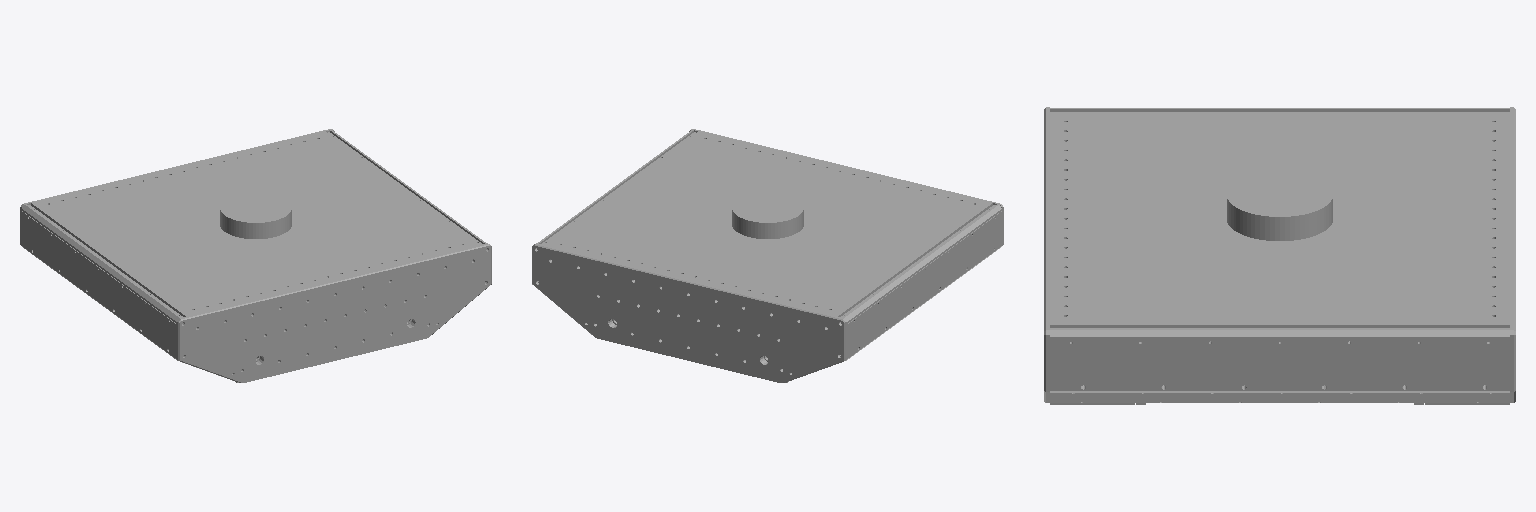
robot.urdf — mobile_robot10:
<?xml version="1.0" ?>
<!-- =================================================================================== -->
<!-- |    This document was autogenerated by xacro from mobile_robot10.xacro           | -->
<!-- |    EDITING THIS FILE BY HAND IS NOT RECOMMENDED                                 | -->
<!-- =================================================================================== -->
<robot name="mobile_robot10">
  <material name="silver">
    <color rgba="0.700 0.700 0.700 1.000"/>
  </material>
  <transmission name="revLB_tran">
    <type>transmission_interface/SimpleTransmission</type>
    <joint name="revLB">
      <hardwareInterface>hardware_interface/EffortJointInterface</hardwareInterface>
    </joint>
    <actuator name="revLB_actr">
      <hardwareInterface>hardware_interface/EffortJointInterface</hardwareInterface>
      <mechanicalReduction>1</mechanicalReduction>
    </actuator>
  </transmission>
  <transmission name="revLF_tran">
    <type>transmission_interface/SimpleTransmission</type>
    <joint name="revLF">
      <hardwareInterface>hardware_interface/EffortJointInterface</hardwareInterface>
    </joint>
    <actuator name="revLF_actr">
      <hardwareInterface>hardware_interface/EffortJointInterface</hardwareInterface>
      <mechanicalReduction>1</mechanicalReduction>
    </actuator>
  </transmission>
  <transmission name="revRF_tran">
    <type>transmission_interface/SimpleTransmission</type>
    <joint name="revRF">
      <hardwareInterface>hardware_interface/EffortJointInterface</hardwareInterface>
    </joint>
    <actuator name="revRF_actr">
      <hardwareInterface>hardware_interface/EffortJointInterface</hardwareInterface>
      <mechanicalReduction>1</mechanicalReduction>
    </actuator>
  </transmission>
  <transmission name="revRB_tran">
    <type>transmission_interface/SimpleTransmission</type>
    <joint name="revRB">
      <hardwareInterface>hardware_interface/EffortJointInterface</hardwareInterface>
    </joint>
    <actuator name="revRB_actr">
      <hardwareInterface>hardware_interface/EffortJointInterface</hardwareInterface>
      <mechanicalReduction>1</mechanicalReduction>
    </actuator>
  </transmission>

<gazebo>
...

</gazebo>
  
  <gazebo reference="lidar_1">
    <sensor name="head_hokuyo_sensor" type="ray">
      <pose>0 0 0 0 0 0</pose>
      <visualize>false</visualize>
      <update_rate>20</update_rate>
      <ray>
        <scan>
          <horizontal>
            <samples>720</samples>
            <resolution>1</resolution>
            <min_angle>-3.14</min_angle>
            <max_angle>3.14</max_angle>
          </horizontal>
        </scan>
        <range>
          <min>0.50</min>
          <max>20.0</max>
          <resolution>0.01</resolution>
        </range>
        <noise>
          <type>gaussian</type>
          <!-- Noise parameters based on published spec for Hokuyo laser
               achieving "+-30mm" accuracy at range < 10m.  A mean of 0.0m and
               stddev of 0.01m will put 99.7% of samples within 0.03m of the true
               reading. -->
          <mean>0.0</mean>
          <stddev>0.01</stddev>
        </noise>
      </ray>
      <plugin filename="libgazebo_ros_laser.so" name="gazebo_ros_head_hokuyo_controller">
        <topicName>/rrbot/laser/scan</topicName>
        <frameName>lidar_1</frameName>
      </plugin>
    </sensor>
  </gazebo>
  <gazebo>
    <plugin filename="libgazebo_ros_control.so" name="control"/>
  </gazebo>
  <gazebo reference="base_link">
    <material>Gazebo/Silver</material>
    <mu1>0.2</mu1>
    <mu2>0.2</mu2>
    <selfCollide>true</selfCollide>
    <gravity>true</gravity>
  </gazebo>
  <gazebo reference="motor_RightBack_1">
    <material>Gazebo/Silver</material>
    <mu1>0.2</mu1>
    <mu2>0.2</mu2>
    <selfCollide>true</selfCollide>
  </gazebo>
  <gazebo reference="motor_RightFront_1">
    <material>Gazebo/Silver</material>
    <mu1>0.2</mu1>
    <mu2>0.2</mu2>
    <selfCollide>true</selfCollide>
  </gazebo>
  <gazebo reference="motor_LeftFront_1">
    <material>Gazebo/Silver</material>
    <mu1>0.2</mu1>
    <mu2>0.2</mu2>
    <selfCollide>true</selfCollide>
  </gazebo>
  <gazebo reference="motor_LeftBack_1">
    <material>Gazebo/Silver</material>
    <mu1>0.2</mu1>
    <mu2>0.2</mu2>
    <selfCollide>true</selfCollide>
  </gazebo>
  <gazebo reference="wheel_LeftBack_1">
    <material>Gazebo/Silver</material>
    <mu1>0.2</mu1>
    <mu2>0.2</mu2>
    <selfCollide>true</selfCollide>
  </gazebo>
  <gazebo reference="wheel_LeftFront_1">
    <material>Gazebo/Silver</material>
    <mu1>0.2</mu1>
    <mu2>0.2</mu2>
    <selfCollide>true</selfCollide>
  </gazebo>
  <gazebo reference="wheel_RightFront_1">
    <material>Gazebo/Silver</material>
    <mu1>0.2</mu1>
    <mu2>0.2</mu2>
    <selfCollide>true</selfCollide>
  </gazebo>
  <gazebo reference="wheel_RightBack_1">
    <material>Gazebo/Silver</material>
    <mu1>0.2</mu1>
    <mu2>0.2</mu2>
    <selfCollide>true</selfCollide>
  </gazebo>
  <gazebo reference="lidar_1">
    <material>Gazebo/Silver</material>
    <mu1>0.2</mu1>
    <mu2>0.2</mu2>
    <selfCollide>true</selfCollide>
  </gazebo>
  <link name="base_link">
    <inertial>
      <origin rpy="0 0 0" xyz="0.0020658010069307346 0.0014540542329803576 0.13278563199845814"/>
      <mass value="4.254378190431725"/>
      <inertia ixx="0.111017" ixy="5e-06" ixz="-2e-06" iyy="0.100165" iyz="-0.0" izz="0.193805"/>
    </inertial>
    <visual>
      <origin rpy="0 0 0" xyz="0 0 0"/>
      <geometry>
        <mesh filename="package://mobile_robot10_description/meshes/base_link.stl" scale="0.001 0.001 0.001"/>
      </geometry>
      <material name="silver"/>
    </visual>
    <collision>
      <origin rpy="0 0 0" xyz="0 0 0"/>
      <geometry>
        <mesh filename="package://mobile_robot10_description/meshes/base_link.stl" scale="0.001 0.001 0.001"/>
      </geometry>
    </collision>
  </link>
  <link name="motor_RightBack_1">
    <inertial>
      <origin rpy="0 0 0" xyz="2.3547808934085146e-05 0.03723394965455805 -6.253738071324011e-06"/>
      <mass value="0.24966798972825235"/>
      <inertia ixx="0.000251" ixy="0.0" ixz="-0.0" iyy="0.000108" iyz="-0.0" izz="0.000251"/>
    </inertial>
    <visual>
      <origin rpy="0 0 0" xyz="0.118927 0.124046 -0.090327"/>
      <geometry>
        <mesh filename="package://mobile_robot10_description/meshes/motor_RightBack_1.stl" scale="0.001 0.001 0.001"/>
      </geometry>
      <material name="silver"/>
    </visual>
    <collision>
      <origin rpy="0 0 0" xyz="0.118927 0.124046 -0.090327"/>
      <geometry>
        <mesh filename="package://mobile_robot10_description/meshes/motor_RightBack_1.stl" scale="0.001 0.001 0.001"/>
      </geometry>
    </collision>
  </link>
  <link name="motor_RightFront_1">
    <inertial>
      <origin rpy="0 0 0" xyz="2.3547808934029635e-05 0.03723394965455806 -6.253738070879922e-06"/>
      <mass value="0.24966798972825235"/>
      <inertia ixx="0.000251" ixy="0.0" ixz="-0.0" iyy="0.000108" iyz="-0.0" izz="0.000251"/>
    </inertial>
    <visual>
      <origin rpy="0 0 0" xyz="-0.123073 0.124046 -0.090327"/>
      <geometry>
        <mesh filename="package://mobile_robot10_description/meshes/motor_RightFront_1.stl" scale="0.001 0.001 0.001"/>
      </geometry>
      <material name="silver"/>
    </visual>
    <collision>
      <origin rpy="0 0 0" xyz="-0.123073 0.124046 -0.090327"/>
      <geometry>
        <mesh filename="package://mobile_robot10_description/meshes/motor_RightFront_1.stl" scale="0.001 0.001 0.001"/>
      </geometry>
    </collision>
  </link>
  <link name="motor_LeftFront_1">
    <inertial>
      <origin rpy="0 0 0" xyz="2.354780893325248e-05 -0.03723384118858371 5.98091283564306e-06"/>
      <mass value="0.24966798972825235"/>
      <inertia ixx="0.000251" ixy="-0.0" ixz="0.0" iyy="0.000108" iyz="-0.0" izz="0.000251"/>
    </inertial>
    <visual>
      <origin rpy="0 0 0" xyz="-0.123073 -0.126954 -0.090327"/>
      <geometry>
        <mesh filename="package://mobile_robot10_description/meshes/motor_LeftFront_1.stl" scale="0.001 0.001 0.001"/>
      </geometry>
      <material name="silver"/>
    </visual>
    <collision>
      <origin rpy="0 0 0" xyz="-0.123073 -0.126954 -0.090327"/>
      <geometry>
        <mesh filename="package://mobile_robot10_description/meshes/motor_LeftFront_1.stl" scale="0.001 0.001 0.001"/>
      </geometry>
    </collision>
  </link>
  <link name="motor_LeftBack_1">
    <inertial>
      <origin rpy="0 0 0" xyz="2.354780893312758e-05 -0.03723384118858267 5.980912835740204e-06"/>
      <mass value="0.24966798972825235"/>
      <inertia ixx="0.000251" ixy="-0.0" ixz="0.0" iyy="0.000108" iyz="-0.0" izz="0.000251"/>
    </inertial>
    <visual>
      <origin rpy="0 0 0" xyz="0.118927 -0.126954 -0.090327"/>
      <geometry>
        <mesh filename="package://mobile_robot10_description/meshes/motor_LeftBack_1.stl" scale="0.001 0.001 0.001"/>
      </geometry>
      <material name="silver"/>
    </visual>
    <collision>
      <origin rpy="0 0 0" xyz="0.118927 -0.126954 -0.090327"/>
      <geometry>
        <mesh filename="package://mobile_robot10_description/meshes/motor_LeftBack_1.stl" scale="0.001 0.001 0.001"/>
      </geometry>
    </collision>
  </link>
  <link name="wheel_LeftBack_1">
    <inertial>
      <origin rpy="0 0 0" xyz="-0.0002211856349259439 0.09160029831890285 0.00011976017282845641"/>
      <mass value="0.23076924157480921"/>
      <inertia ixx="0.000435" ixy="1e-06" ixz="0.0" iyy="0.000747" iyz="-1e-06" izz="0.000435"/>
    </inertial>
    <visual>
      <origin rpy="0 0 0" xyz="0.118915 -0.169604 -0.090327"/>
      <geometry>
        <mesh filename="package://mobile_robot10_description/meshes/wheel_LeftBack_1.stl" scale="0.001 0.001 0.001"/>
      </geometry>
      <material name="silver"/>
    </visual>
    <collision>
      <origin rpy="0 0 0" xyz="0.118915 -0.169604 -0.090327"/>
      <geometry>
        <mesh filename="package://mobile_robot10_description/meshes/wheel_LeftBack_1.stl" scale="0.001 0.001 0.001"/>
      </geometry>
    </collision>
  </link>
  <link name="wheel_LeftFront_1">
    <inertial>
      <origin rpy="0 0 0" xyz="-5.743380377766505e-05 0.09191036254399113 0.00012495117271071887"/>
      <mass value="0.2305439882563863"/>
      <inertia ixx="0.000437" ixy="0.0" ixz="0.0" iyy="0.000748" iyz="-1e-06" izz="0.000437"/>
    </inertial>
    <visual>
      <origin rpy="0 0 0" xyz="-0.123073 -0.169604 -0.090327"/>
      <geometry>
        <mesh filename="package://mobile_robot10_description/meshes/wheel_LeftFront_1.stl" scale="0.001 0.001 0.001"/>
      </geometry>
      <material name="silver"/>
    </visual>
    <collision>
      <origin rpy="0 0 0" xyz="-0.123073 -0.169604 -0.090327"/>
      <geometry>
        <mesh filename="package://mobile_robot10_description/meshes/wheel_LeftFront_1.stl" scale="0.001 0.001 0.001"/>
      </geometry>
    </collision>
  </link>
  <link name="wheel_RightFront_1">
    <inertial>
      <origin rpy="0 0 0" xyz="-0.00022118563492501409 -0.09160018985292717 -0.00012003299806354062"/>
      <mass value="0.23076924157480921"/>
      <inertia ixx="0.000435" ixy="-1e-06" ixz="-0.0" iyy="0.000747" iyz="-1e-06" izz="0.000435"/>
    </inertial>
    <visual>
      <origin rpy="0 0 0" xyz="-0.123085 0.166696 -0.090327"/>
      <geometry>
        <mesh filename="package://mobile_robot10_description/meshes/wheel_RightFront_1.stl" scale="0.001 0.001 0.001"/>
      </geometry>
      <material name="silver"/>
    </visual>
    <collision>
      <origin rpy="0 0 0" xyz="-0.123085 0.166696 -0.090327"/>
      <geometry>
        <mesh filename="package://mobile_robot10_description/meshes/wheel_RightFront_1.stl" scale="0.001 0.001 0.001"/>
      </geometry>
    </collision>
  </link>
  <link name="wheel_RightBack_1">
    <inertial>
      <origin rpy="0 0 0" xyz="-5.719253608364727e-05 -0.09191025407801684 -0.0001251999899373052"/>
      <mass value="0.2305439882563863"/>
      <inertia ixx="0.000437" ixy="-0.0" ixz="-0.0" iyy="0.000748" iyz="-1e-06" izz="0.000437"/>
    </inertial>
    <visual>
      <origin rpy="0 0 0" xyz="0.118915 0.166696 -0.090327"/>
      <geometry>
        <mesh filename="package://mobile_robot10_description/meshes/wheel_RightBack_1.stl" scale="0.001 0.001 0.001"/>
      </geometry>
      <material name="silver"/>
    </visual>
    <collision>
      <origin rpy="0 0 0" xyz="0.118915 0.166696 -0.090327"/>
      <geometry>
        <mesh filename="package://mobile_robot10_description/meshes/wheel_RightBack_1.stl" scale="0.001 0.001 0.001"/>
      </geometry>
    </collision>
  </link>
  <link name="lidar_1">
    <inertial>
      <origin rpy="0 0 0" xyz="1.9045593262516022e-07 5.4232985110353946e-08 0.012499863587381699"/>
      <mass value="1.541343895667494"/>
      <inertia ixx="0.001044" ixy="0.0" ixz="-0.0" iyy="0.001044" iyz="-0.0" izz="0.001927"/>
    </inertial>
    <visual>
      <origin rpy="0 0 0" xyz="-0.002073 -0.001454 -0.181327"/>
      <geometry>
        <mesh filename="package://mobile_robot10_description/meshes/lidar_1.stl" scale="0.001 0.001 0.001"/>
      </geometry>
      <material name="silver"/>
    </visual>
    <collision>
      <origin rpy="0 0 0" xyz="-0.002073 -0.001454 -0.181327"/>
      <geometry>
        <mesh filename="package://mobile_robot10_description/meshes/lidar_1.stl" scale="0.001 0.001 0.001"/>
      </geometry>
    </collision>
  </link>
  <joint name="Rigid 23" type="fixed">
    <origin rpy="0 0 0" xyz="-0.118927 -0.124046 0.090327"/>
    <parent link="base_link"/>
    <child link="motor_RightBack_1"/>
  </joint>
  <joint name="Rigid 24" type="fixed">
    <origin rpy="0 0 0" xyz="0.123073 -0.124046 0.090327"/>
    <parent link="base_link"/>
    <child link="motor_RightFront_1"/>
  </joint>
  <joint name="Rigid 25" type="fixed">
    <origin rpy="0 0 0" xyz="0.123073 0.126954 0.090327"/>
    <parent link="base_link"/>
    <child link="motor_LeftFront_1"/>
  </joint>
  <joint name="Rigid 26" type="fixed">
    <origin rpy="0 0 0" xyz="-0.118927 0.126954 0.090327"/>
    <parent link="base_link"/>
    <child link="motor_LeftBack_1"/>
  </joint>
  <joint name="revLB" type="continuous">
    <origin rpy="0 0 0" xyz="1.2e-05 0.04265 0.0"/>
    <parent link="motor_LeftBack_1"/>
    <child link="wheel_LeftBack_1"/>
    <axis xyz="0.0 1.0 0.0"/>
  </joint>
  <joint name="revLF" type="continuous">
    <origin rpy="0 0 0" xyz="0.0 0.04265 0.0"/>
    <parent link="motor_LeftFront_1"/>
    <child link="wheel_LeftFront_1"/>
    <axis xyz="0.0 1.0 0.0"/>
  </joint>
  <joint name="revRF" type="continuous">
    <origin rpy="0 0 0" xyz="1.2e-05 -0.04265 0.0"/>
    <parent link="motor_RightFront_1"/>
    <child link="wheel_RightFront_1"/>
    <axis xyz="0.0 1.0 -0.0"/>
  </joint>
  <joint name="revRB" type="continuous">
    <origin rpy="0 0 0" xyz="1.2e-05 -0.04265 0.0"/>
    <parent link="motor_RightBack_1"/>
    <child link="wheel_RightBack_1"/>
    <axis xyz="0.0 1.0 -0.0"/>
  </joint>
  <joint name="Rigid 31" type="fixed">
    <origin rpy="0 0 0" xyz="0.002073 0.001454 0.181327"/>
    <parent link="base_link"/>
    <child link="lidar_1"/>
  </joint>
</robot>

--- Facts derived from the render (not from the file) ---
Views: 3 orthographic renders of the robot side by side, from view 1: azimuth 30°, elevation 25°; view 2: azimuth 150°, elevation 25°; view 3: azimuth 270°, elevation 25°.
Robot: mobile_robot10 — 10 links, 9 joints (4 continuous, 5 fixed); root link base_link; default pose: every joint at zero.
Visible links, largest first — view 1: base_link, lidar_1; view 2: base_link, lidar_1; view 3: base_link, lidar_1.
Boxes of the visible links, x1,y1,x2,y2 form: base_link: (20, 129, 491, 382); lidar_1: (220, 192, 291, 238); base_link: (532, 129, 1003, 382); lidar_1: (732, 192, 803, 238); base_link: (1044, 107, 1515, 404); lidar_1: (1227, 172, 1332, 240).
Bounding box of the posed robot: 0.502 × 0.44 × 0.146 m (x, y, z).
6 mesh visuals loaded from 10 distinct referenced files (6 binary STL); not drawn: 4 (reference not matched to a file when rendering).
